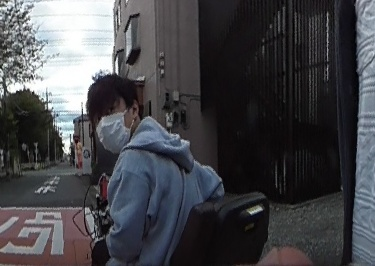person: (82, 72, 233, 266)
